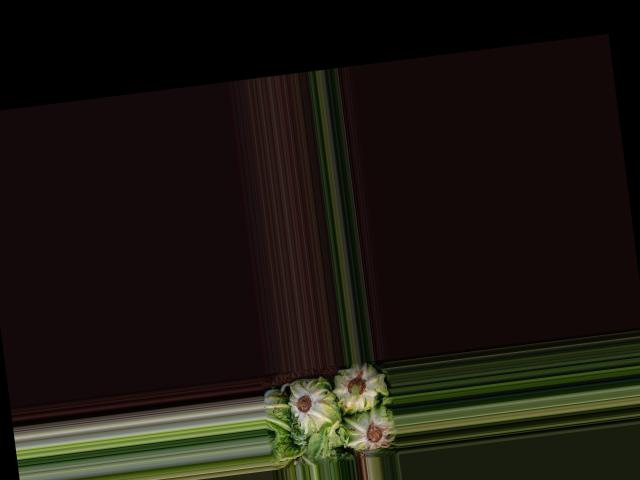lettuce: (342, 404, 397, 454)
